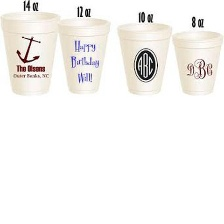paper_cup: (0, 6, 63, 100), (53, 14, 113, 99), (112, 19, 175, 99), (168, 26, 224, 99)
